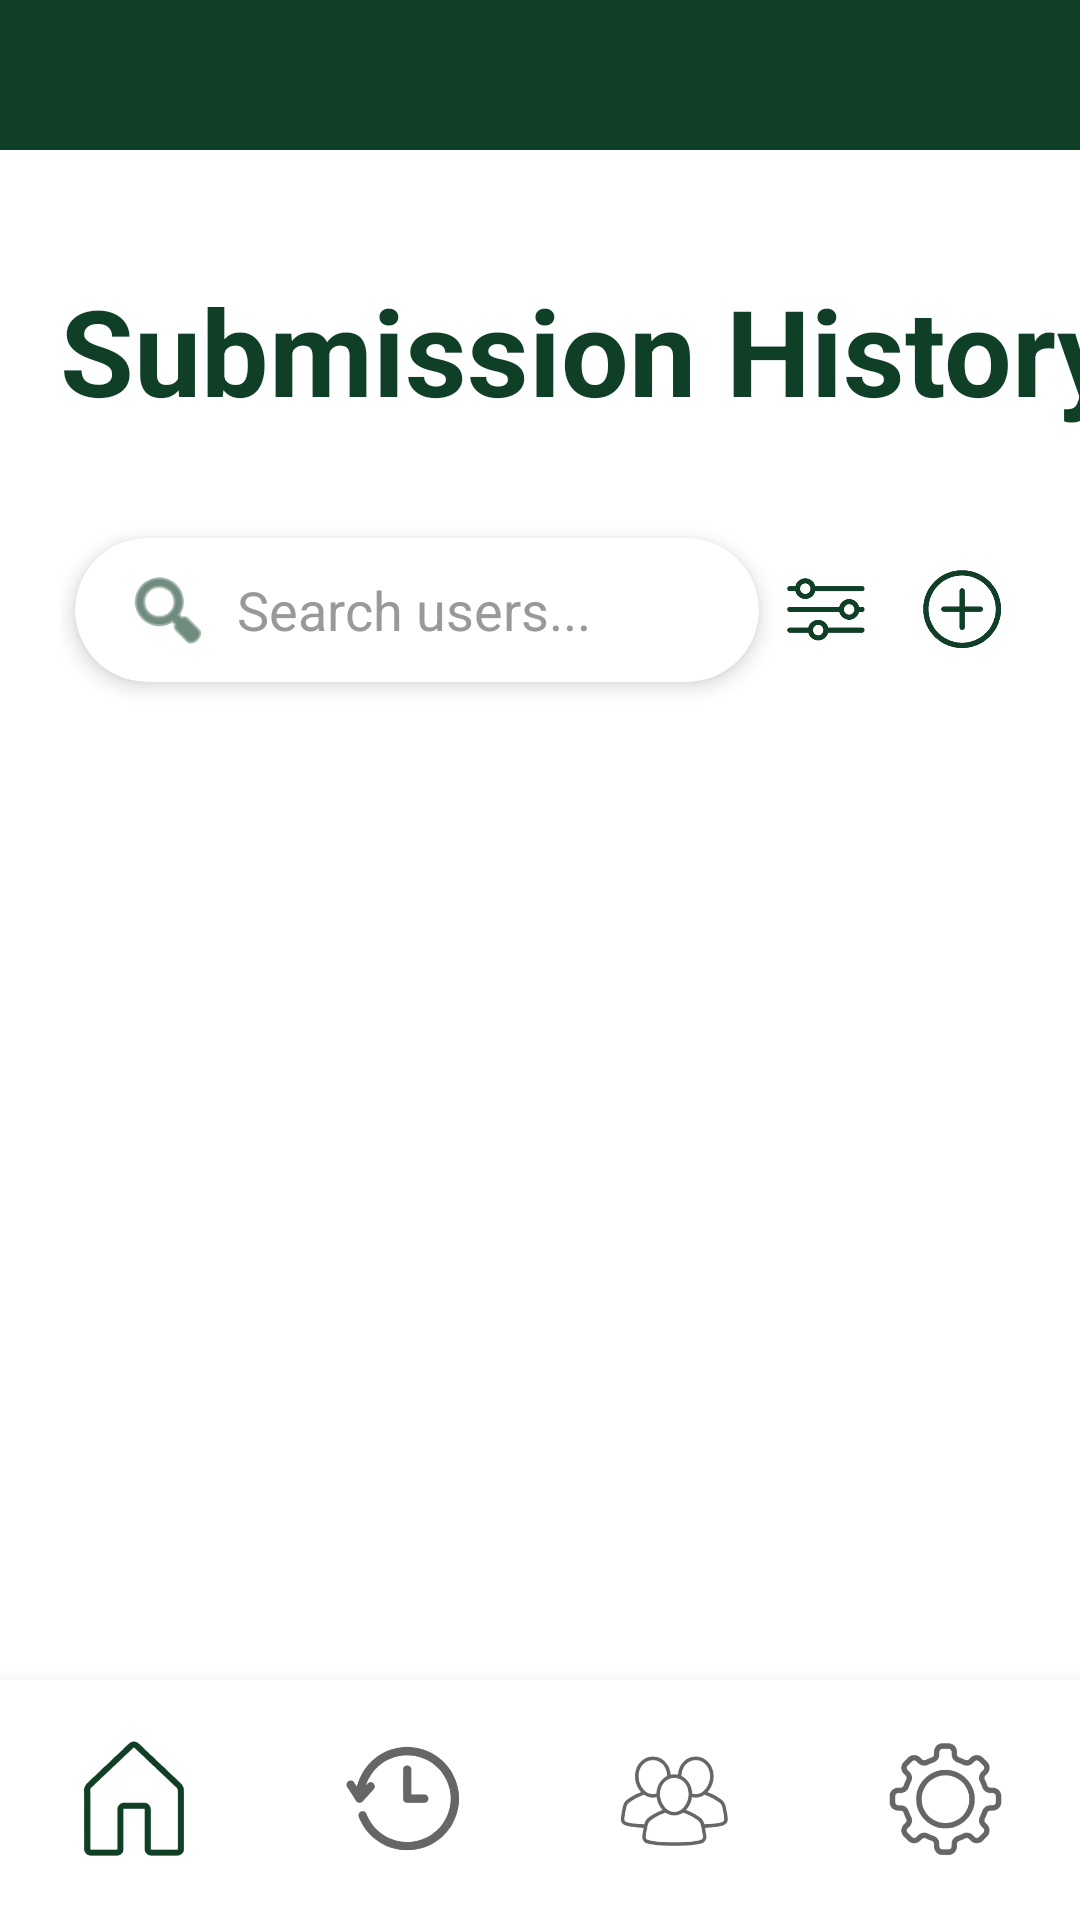

Screen size 1080x1920. Icon name, then its center in pixels as point (x, y):
Add: point (962, 609)
Filter: point (826, 609)
